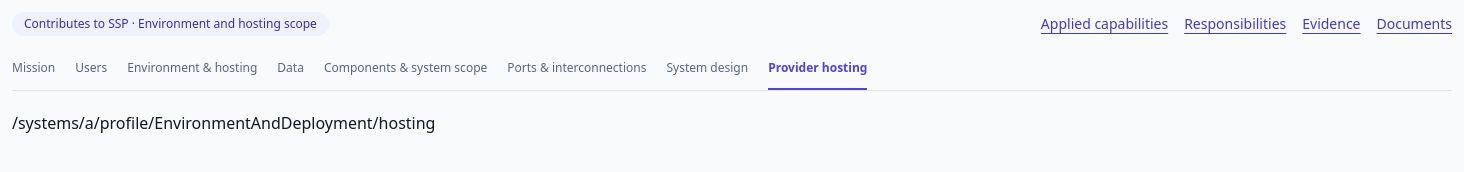
Test: Systems task navigation › connects hosting, applied capabilities, responsibilities and documents without leaving the selected system
Click the link "Applied capabilities" at [1105, 24], box [1041,14,1168,34]
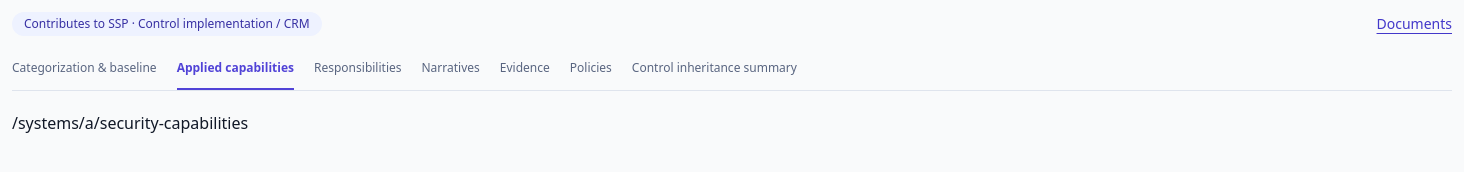
Now the text "/systems/a/security-capabilities" is shown, box [12,112,248,134]
Click the link "Responsibilities" at [358, 68], box [314,59,402,76]
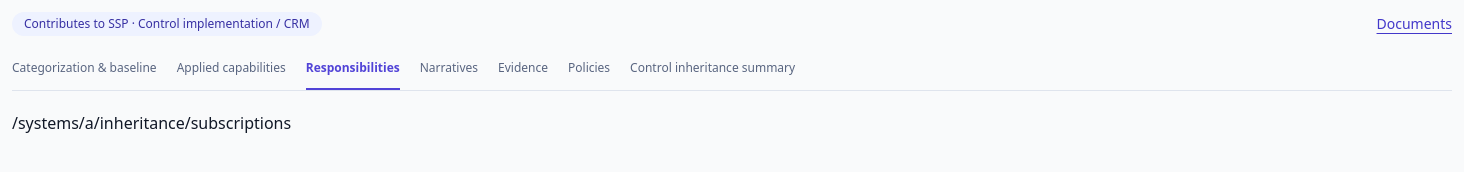
Now the text "/systems/a/inheritance/subscriptions" is shown, box [12,112,291,134]
Click the link "Documents" at [1414, 24], box [1376,14,1452,34]
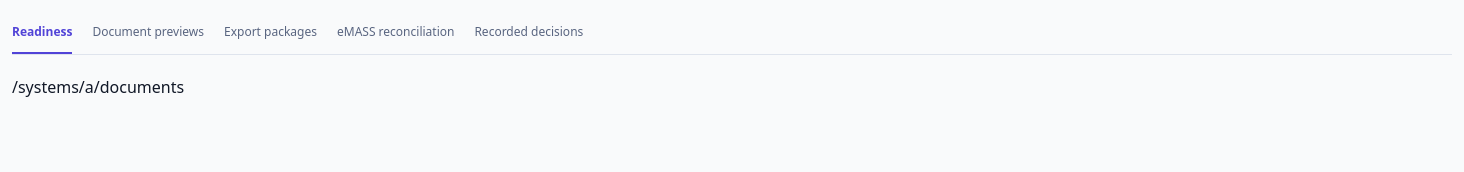
Now the text "/systems/a/documents" is shown, box [12,76,184,98]
